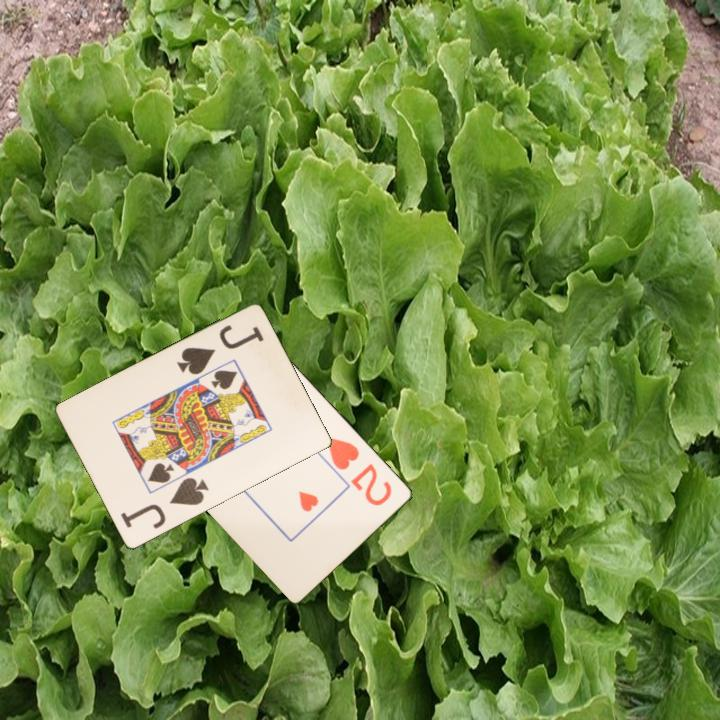2h: (323, 433, 395, 509)
Js: (117, 474, 211, 533), (173, 321, 267, 378)
